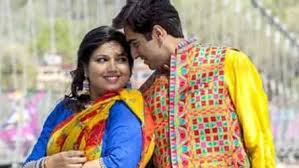Bad: (24, 1, 277, 168)
